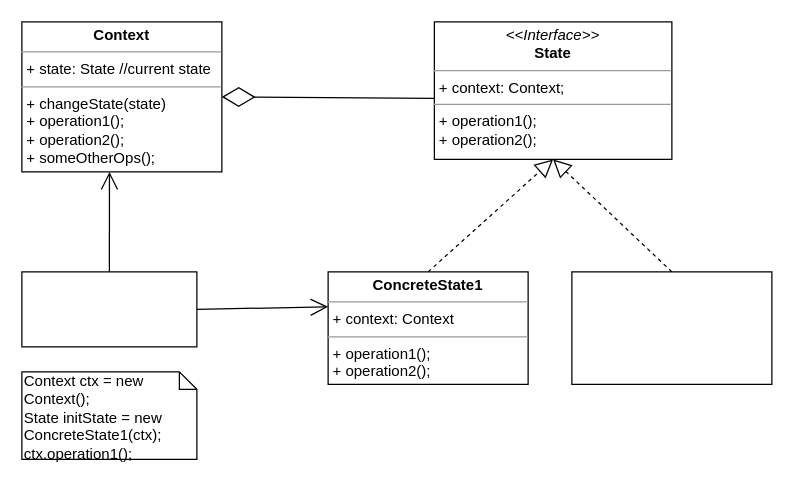
The diagram is 794 pixels wide and 485 high, and some of its shapes have lost their labels. Here are the shapes that lost their labels. From the top down, the box of each, then its label:
(21, 271, 197, 347): Client
(571, 271, 772, 384): ConcreteState2 + context: Context + operation1(); + operation2();
